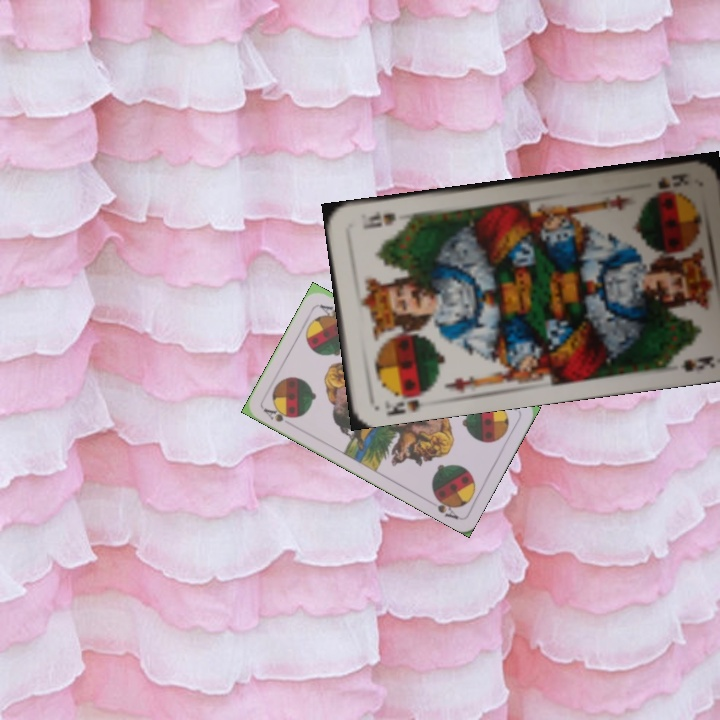SA: (259, 403, 298, 429)
SK: (382, 395, 423, 417), (654, 169, 691, 192)
